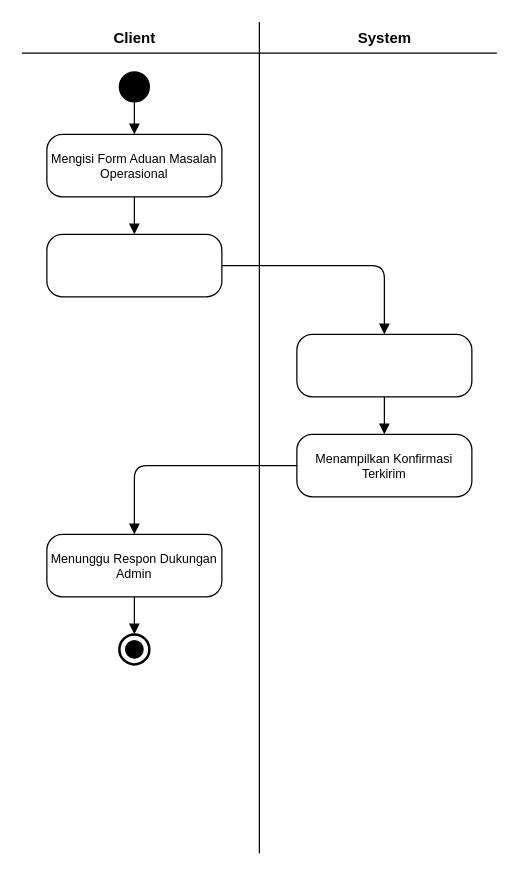
This 520x876 diagram has some shape labels left out. The shapes that lost their labels are listed below. From the top down, each one's centre as x and y in pixels, then its label:
At [134,265]: "Menekan Tombol Kirim Pengaduan".
At [384,365]: "Menyimpan Aduan Renter Status PENDING".
